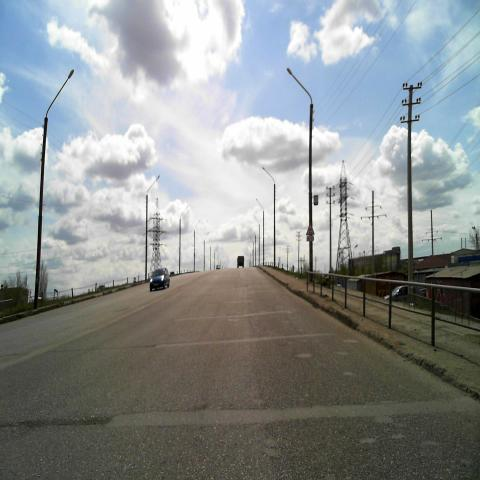1_15: (306, 222, 314, 234)
